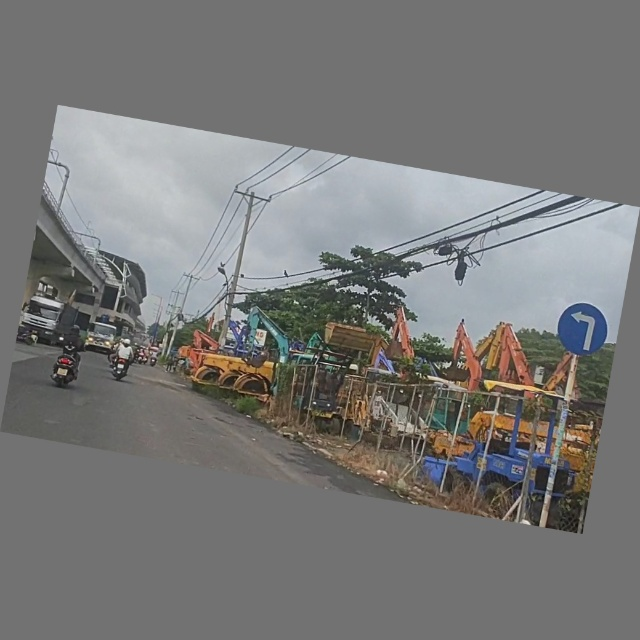R.301e: (553, 302, 612, 361)
